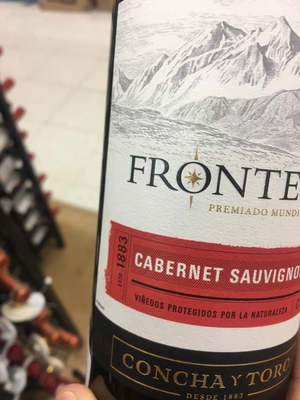frontera cabernet sauvignon: (84, 2, 300, 389)
